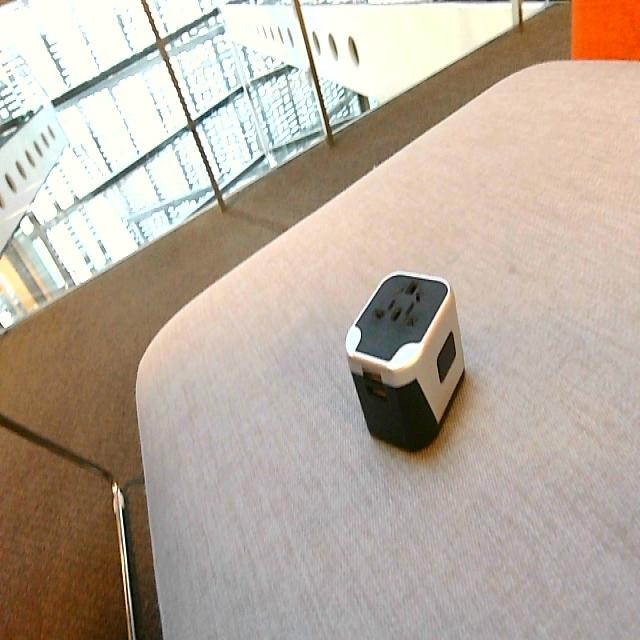adapter: (344, 269, 465, 452)
